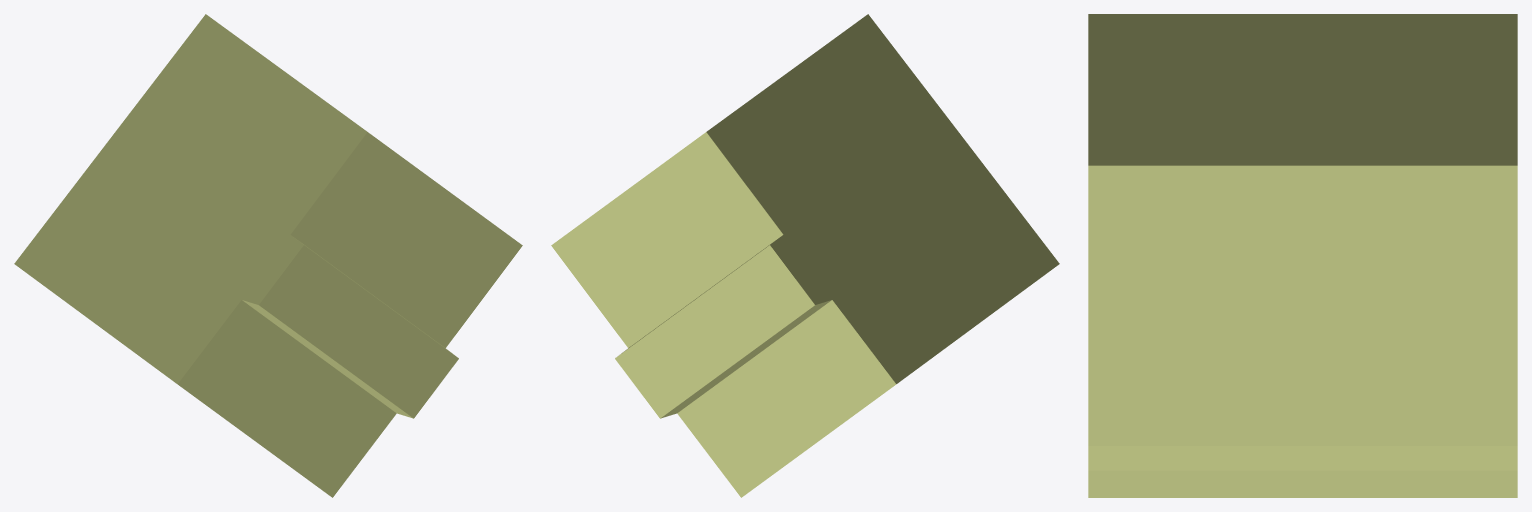
3 renders of one model, left to right at view 1: azimuth 30°, elevation 25°; view 2: azimuth 150°, elevation 25°; view 3: azimuth 270°, elevation 25°, orthographic. The views are drawn at different scales.
Parts seen in each view (by area): view 1: 0_1_1_3_3_1_3_0_0_1; view 2: 0_1_1_3_3_1_3_0_0_1; view 3: 0_1_1_3_3_1_3_0_0_1.
Boxes of the visible parts, box(x1,y1,x2,y2) form: 0_1_1_3_3_1_3_0_0_1: box(14, 14, 522, 497); 0_1_1_3_3_1_3_0_0_1: box(551, 14, 1059, 497); 0_1_1_3_3_1_3_0_0_1: box(1088, 14, 1517, 497).
Bounding box in the file's own units: 11.84 × 11.63 × 9.
